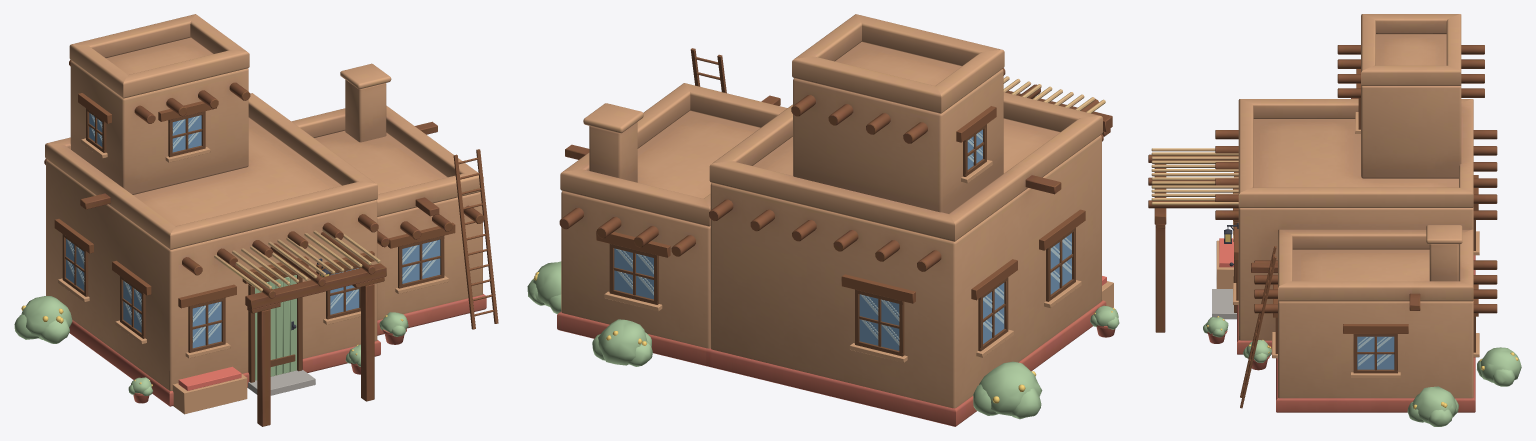
The model's file is adobe-house.glb.
3 views of the same model, side by side, from view 1: azimuth 30°, elevation 25°; view 2: azimuth 150°, elevation 25°; view 3: azimuth 270°, elevation 25° (orthographic). The views are drawn at different scales.
Visible parts, largest first — view 1: adobe-house_body, adobe-house_details, adobe-house_plants, adobe-house_door_l, adobe-house_glints, adobe-house_frame; view 2: adobe-house_body, adobe-house_details, adobe-house_plants, adobe-house_glints; view 3: adobe-house_body, adobe-house_details, adobe-house_plants.
Part boxes in pixels (<box>): adobe-house_body: <box>44,14,486,426</box>; adobe-house_details: <box>54,93,498,414</box>; adobe-house_plants: <box>14,296,408,395</box>; adobe-house_door_l: <box>255,275,296,380</box>; adobe-house_glints: <box>66,113,436,342</box>; adobe-house_frame: <box>242,256,308,382</box>; adobe-house_body: <box>557,14,1112,426</box>; adobe-house_details: <box>596,48,1115,362</box>; adobe-house_plants: <box>527,261,1119,419</box>; adobe-house_glints: <box>616,132,1071,345</box>; adobe-house_body: <box>1148,14,1497,412</box>; adobe-house_details: <box>1207,69,1479,408</box>; adobe-house_plants: <box>1203,316,1521,426</box>.
Bounding box in the file's own units: 9.5 × 5.74 × 7.63.
16 materials, 1 textured.
